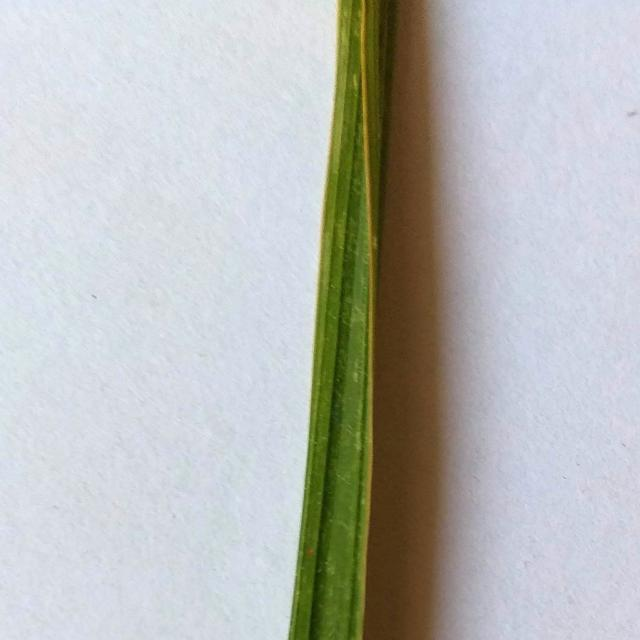Rice_Healthy: (289, 0, 395, 640)
